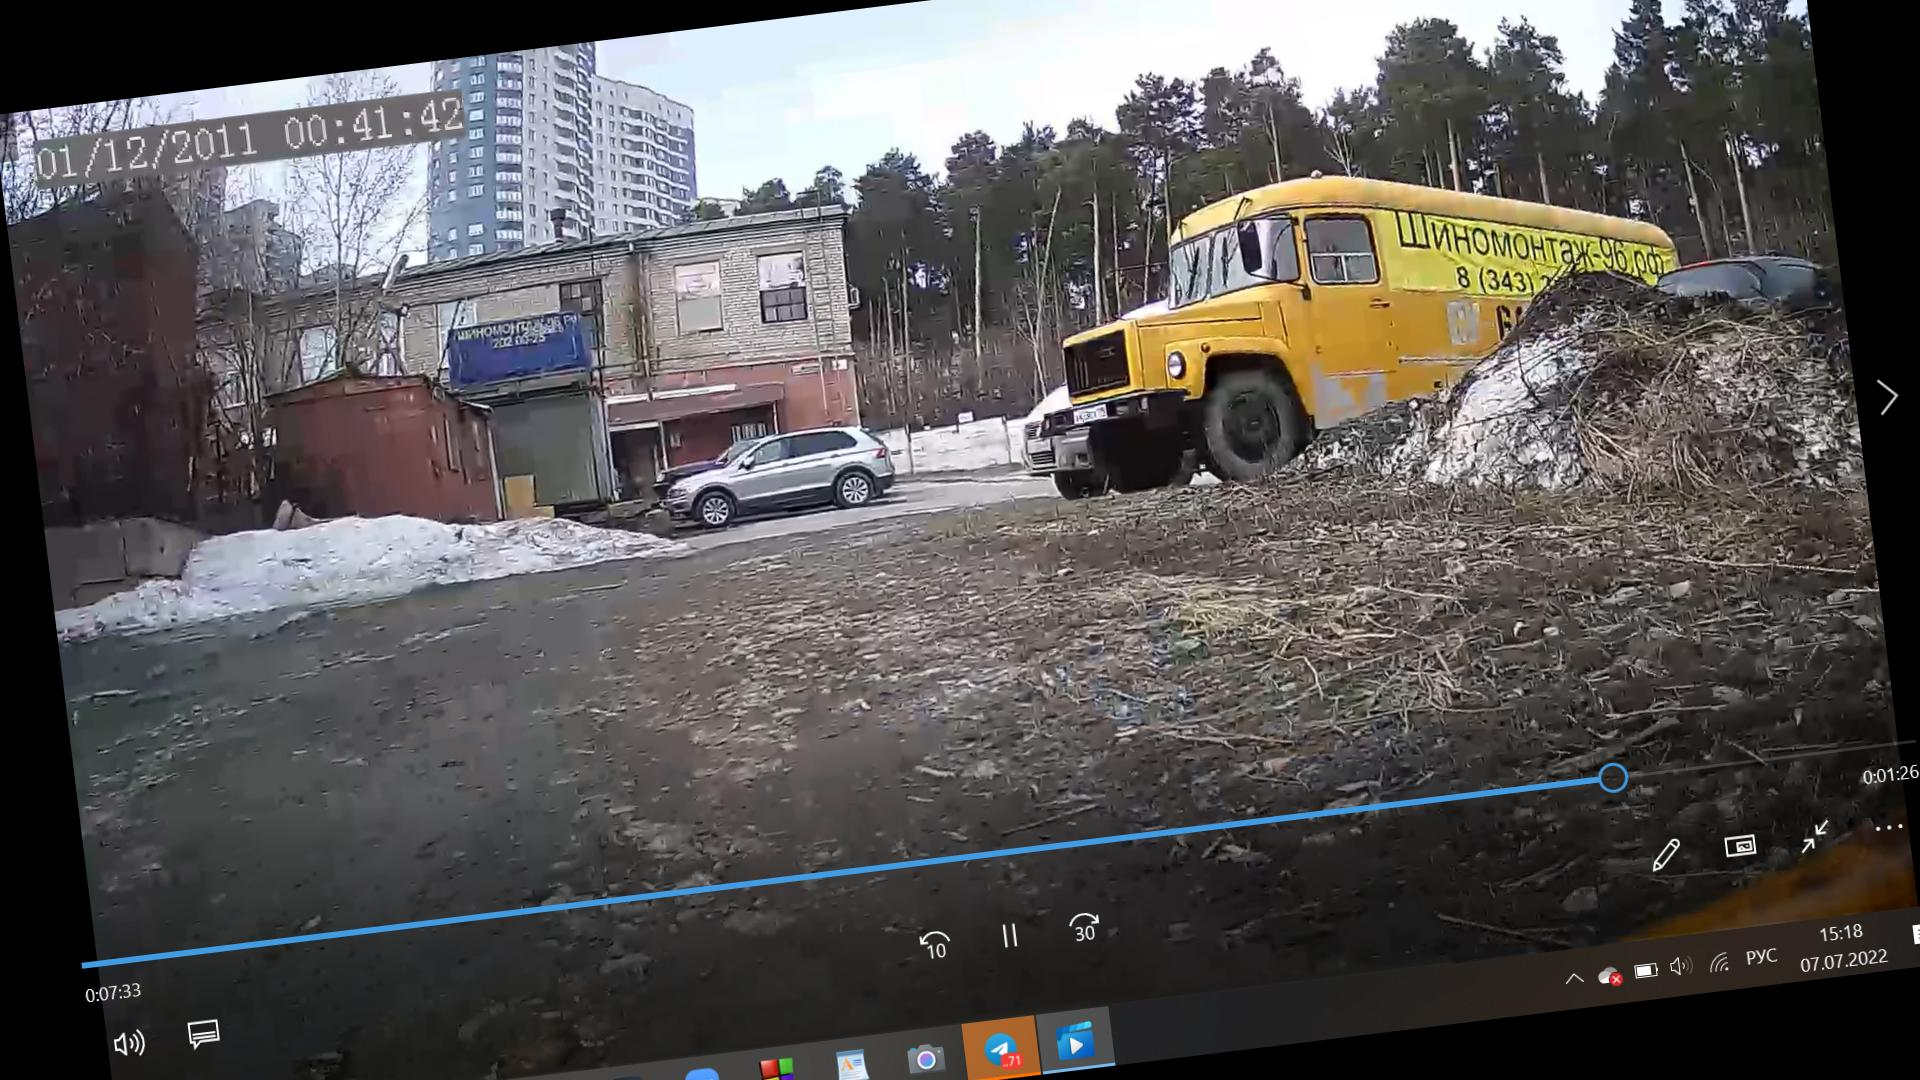plate: (1075, 406, 1106, 424)
